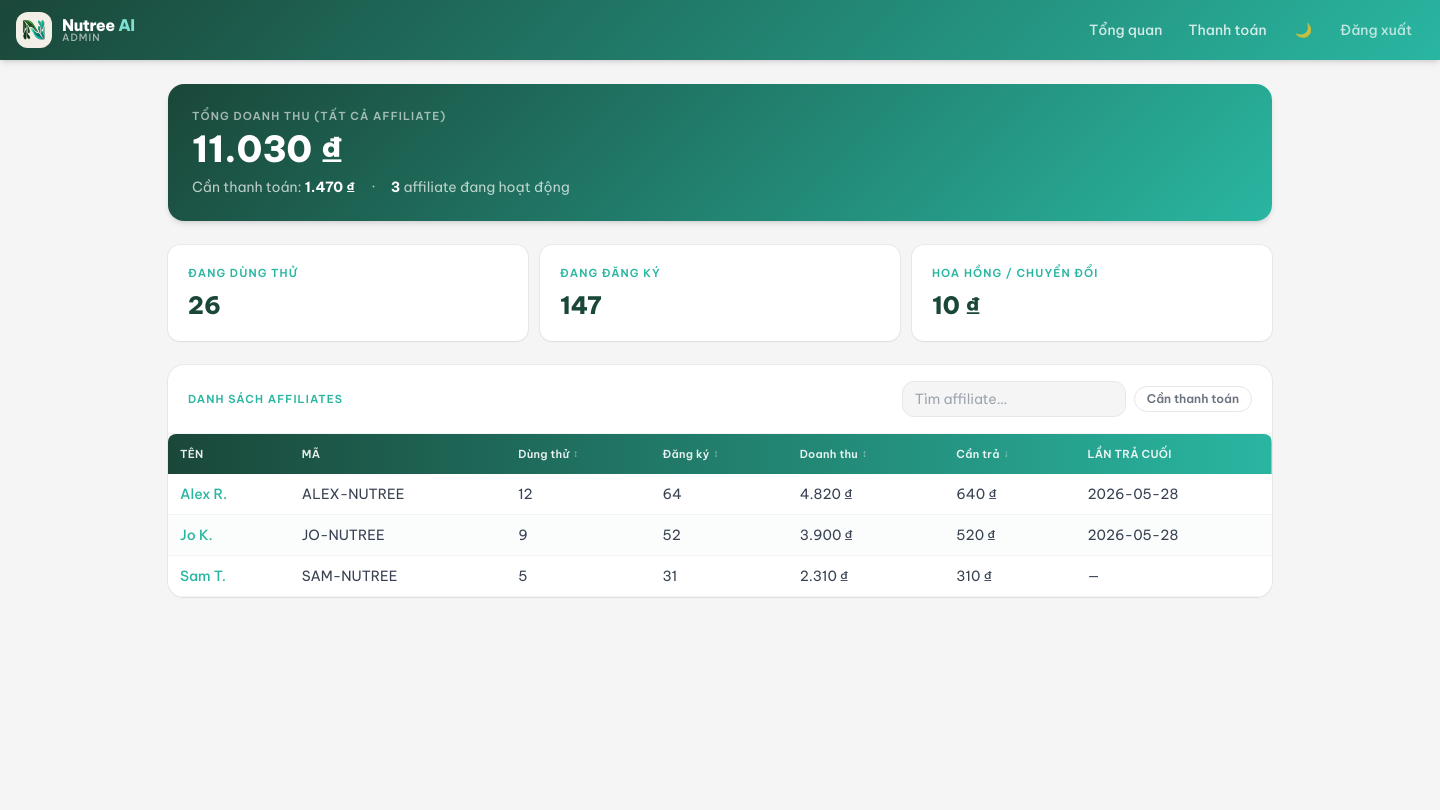
Test: Admin Overview › filters affiliates by search
expect the button "Alex R." is shown: met, box [180, 484, 227, 504]
In the field with placeholder "Tìm affiliate…": (1014, 399) [902, 381, 1126, 417], type "Sam"
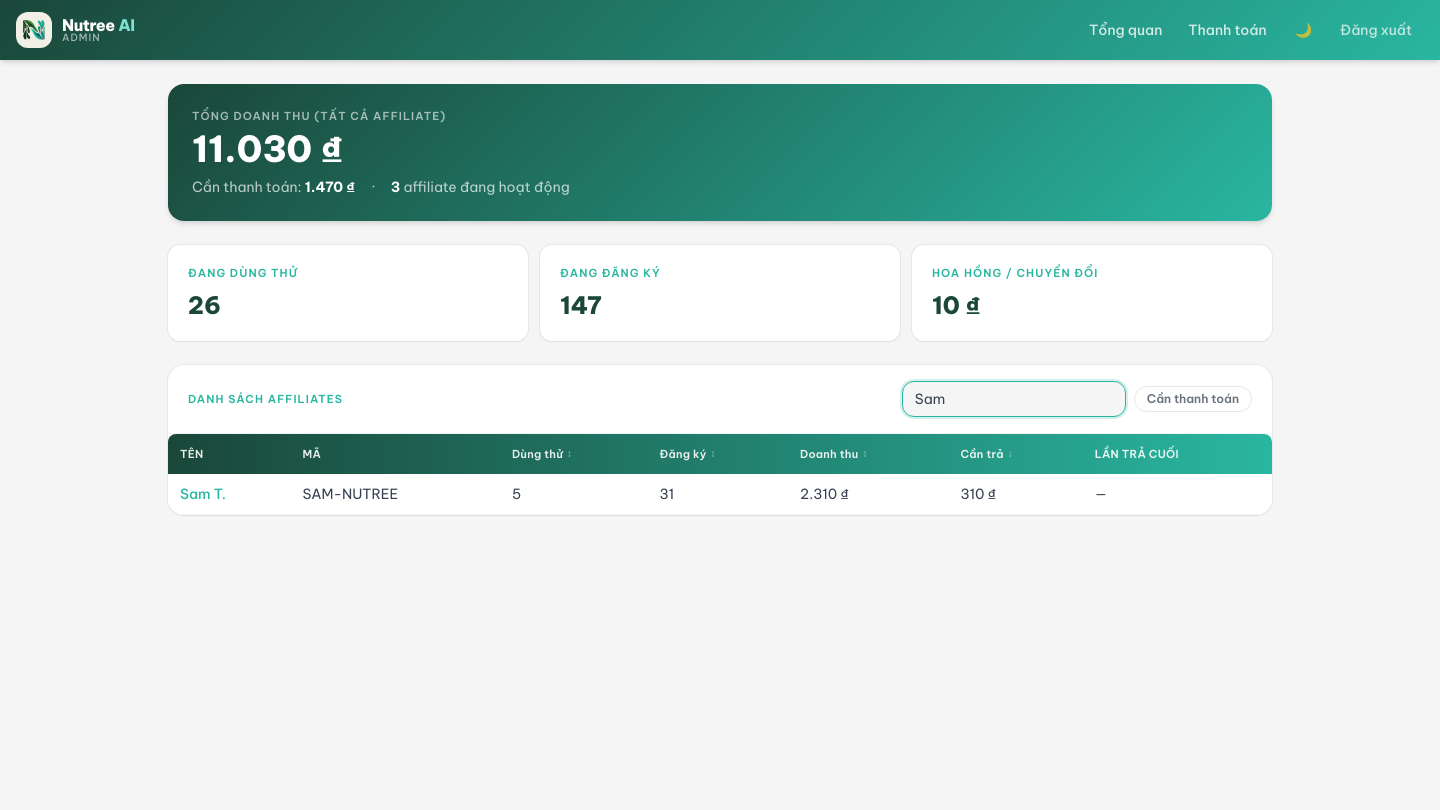
expect the button "Sam T." is shown: met, box [180, 484, 226, 504]
expect the button "Alex R." is gone: met
